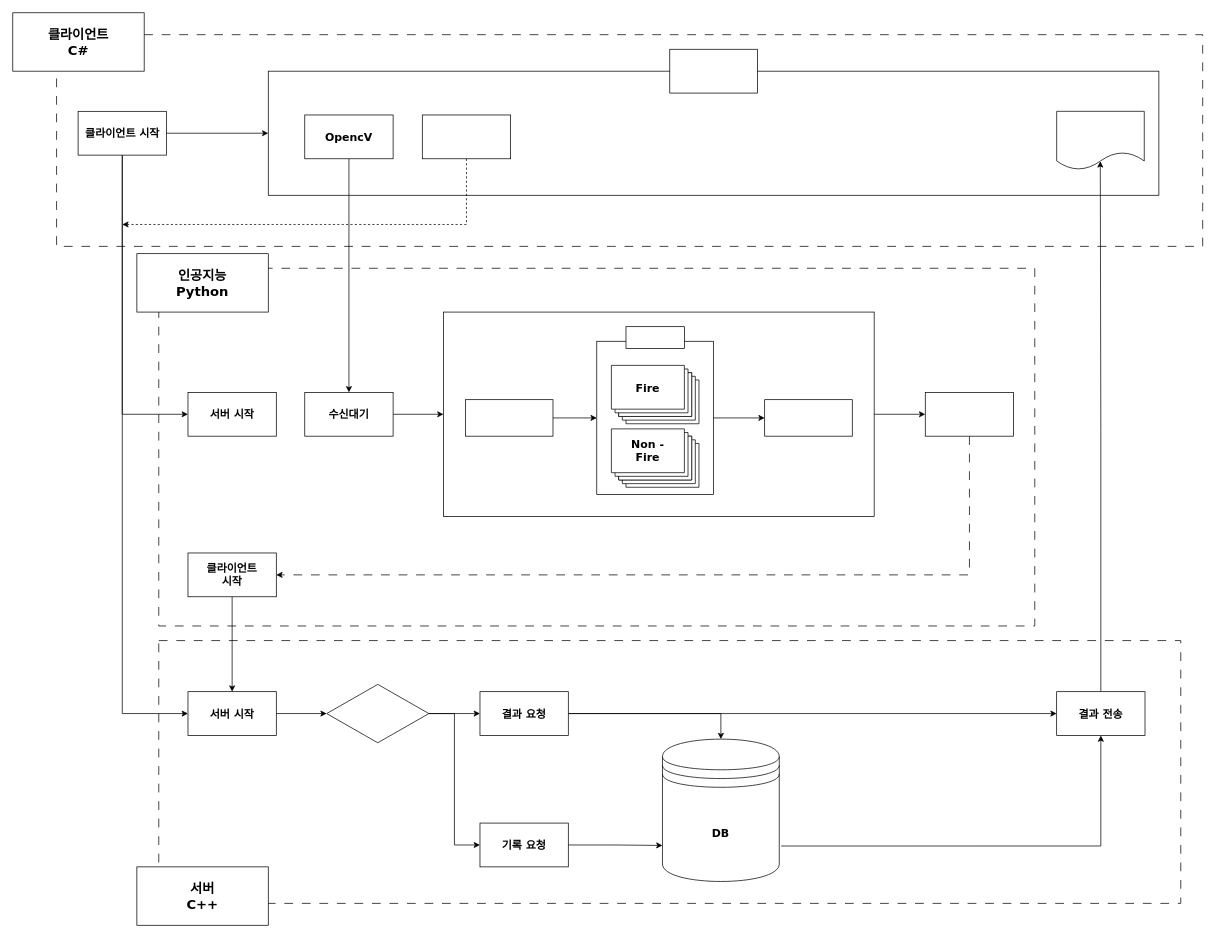
This 1215x938 diagram has some shape labels left out. The shapes that lost their labels are listed below. From the top down, each one's centre as x and y in pixels, then its label:
At pixel 713 71: "GUI".
At pixel 466 136: "그래프".
At pixel 1100 140: "결과출력".
At pixel 654 337: "모델학습".
At pixel 509 417: "Tensorflow / keras".
At pixel 808 417: "결과 모델 저장".
At pixel 969 414: "결과 검출".
At pixel 377 713: "요청확인".
